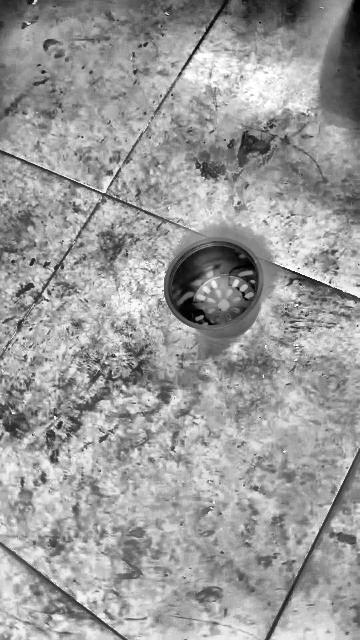pot: (164, 237, 264, 333)
